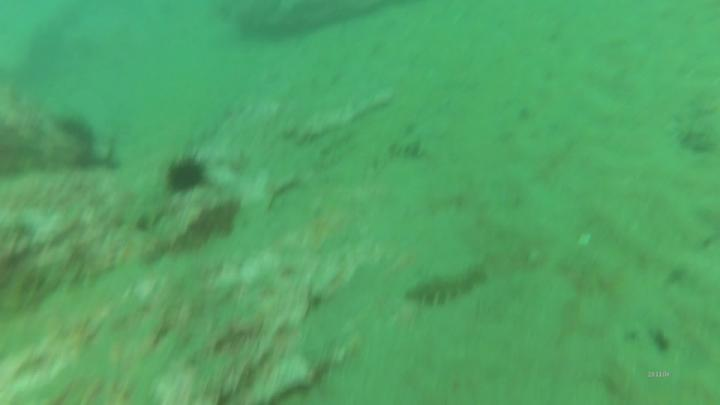echinus: (160, 149, 218, 200)
holothurian: (400, 263, 492, 312)
